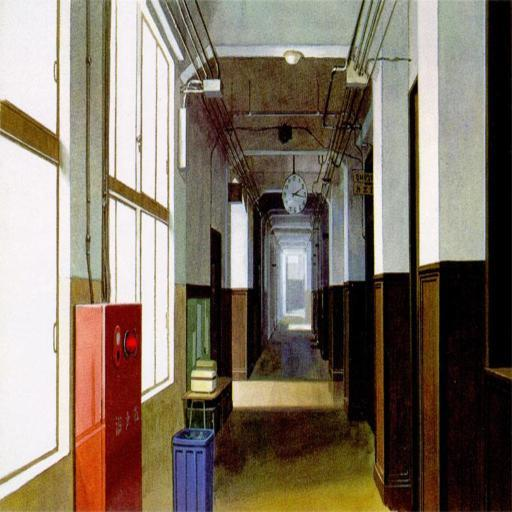trash-can: (172, 415, 222, 512)
